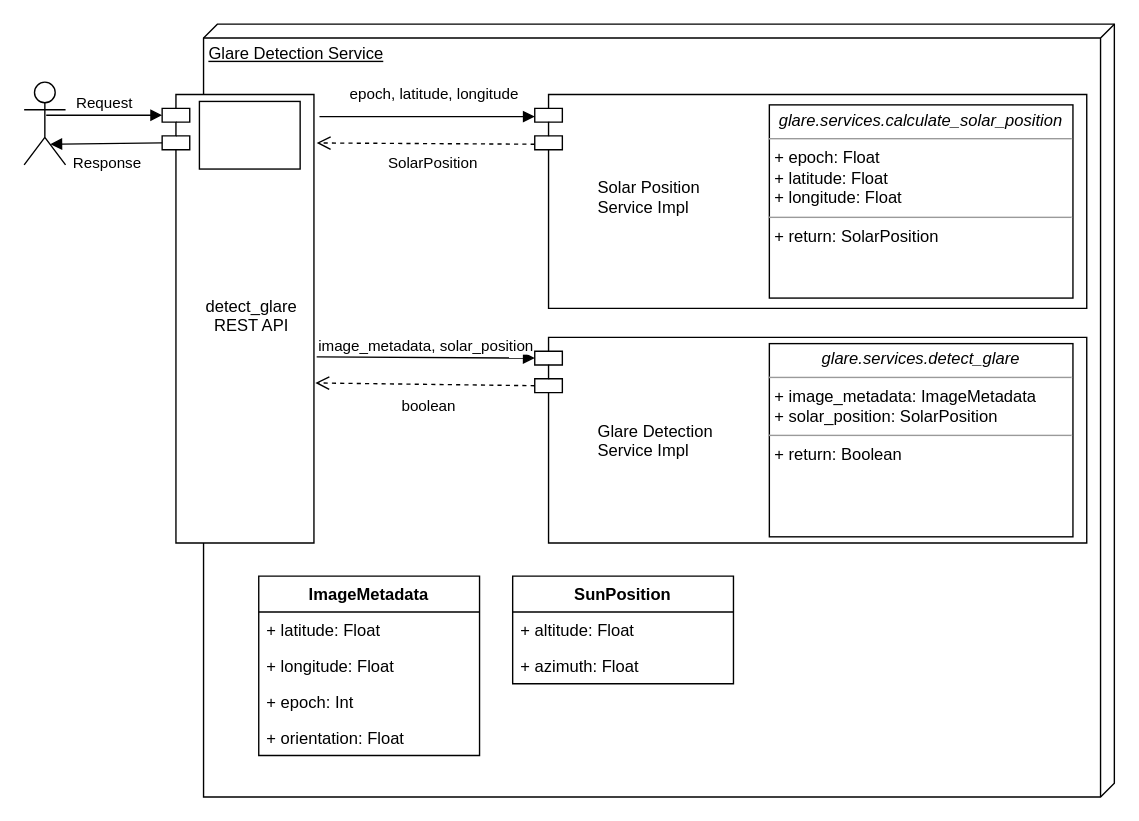
The diagram is 1139 pixels wide and 821 high, and some of its shapes have lost their labels. Each missing label, with the centre of its shape:
/detect_glare POST: point 249,134
Client: point 44,123
